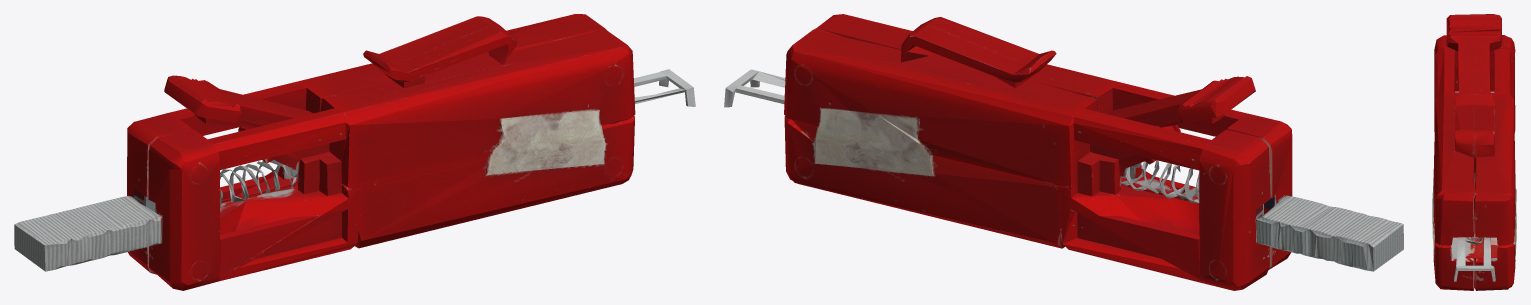
File: meshy.glb
3 renders of one model, left to right at view 1: azimuth 30°, elevation 25°; view 2: azimuth 150°, elevation 25°; view 3: azimuth 270°, elevation 25°, orthographic. The views are drawn at different scales.
Visible parts, largest first — view 1: Mesh_0; view 2: Mesh_0; view 3: Mesh_0.
Boxes of the visible parts, bbox=[...] form: Mesh_0: bbox=[14, 14, 695, 290]; Mesh_0: bbox=[724, 14, 1403, 290]; Mesh_0: bbox=[1432, 14, 1516, 290].
Bounding box in the file's own units: 1.9 × 0.5069 × 0.2966.
Materials: 1 (1 with a texture image).
